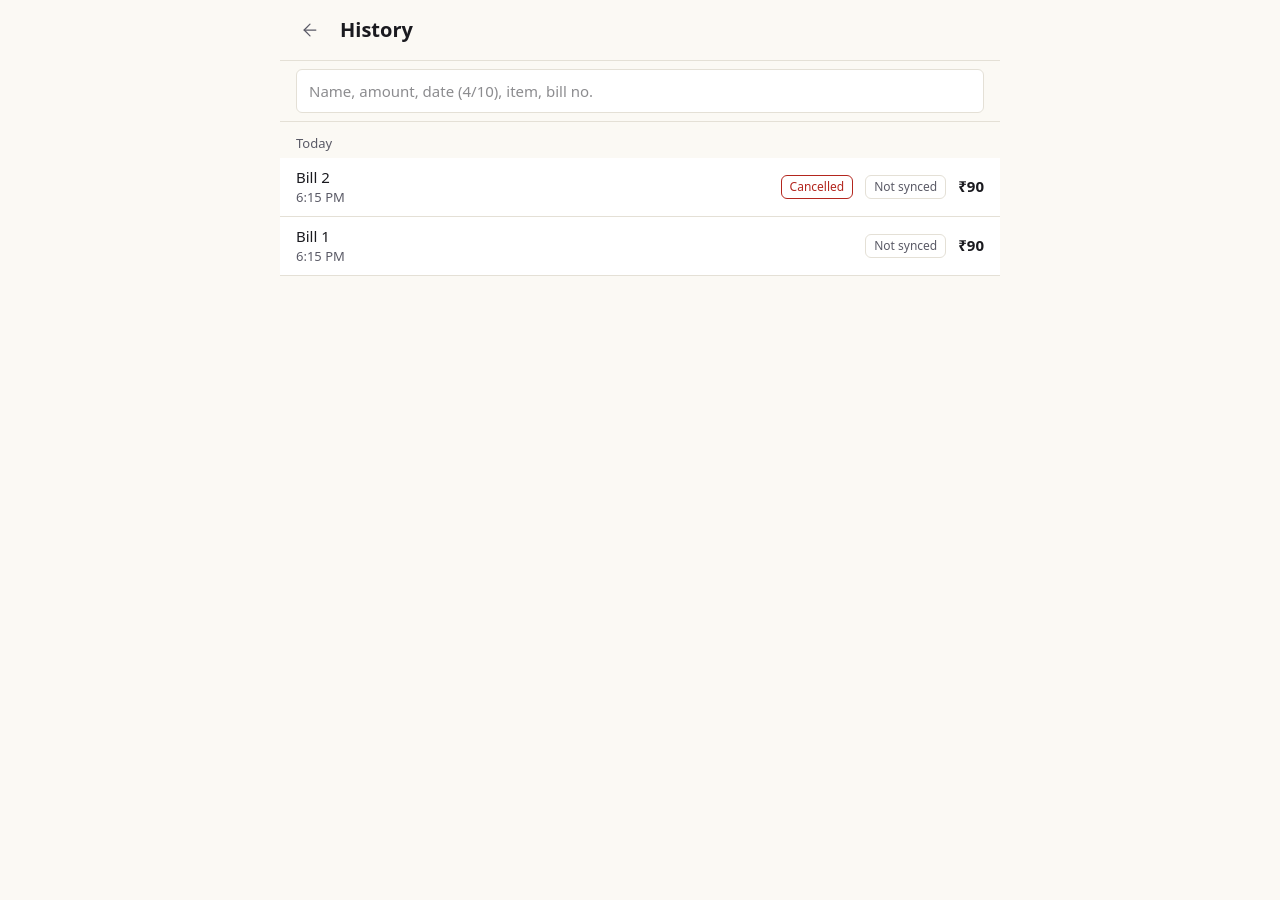
Test case: the bill detail - Cancel bill › a saved bill has a 'Cancel bill' button; a cancelled one does not
Expected: the list named "Bills" is shown, [280,122,1000,276]
What coordinates should you click on to do the following:
click the button "Bill 1 6:15 PM Not synced ₹90"
I would click on:
 (320, 256)
Its box is [280,216,1000,276].
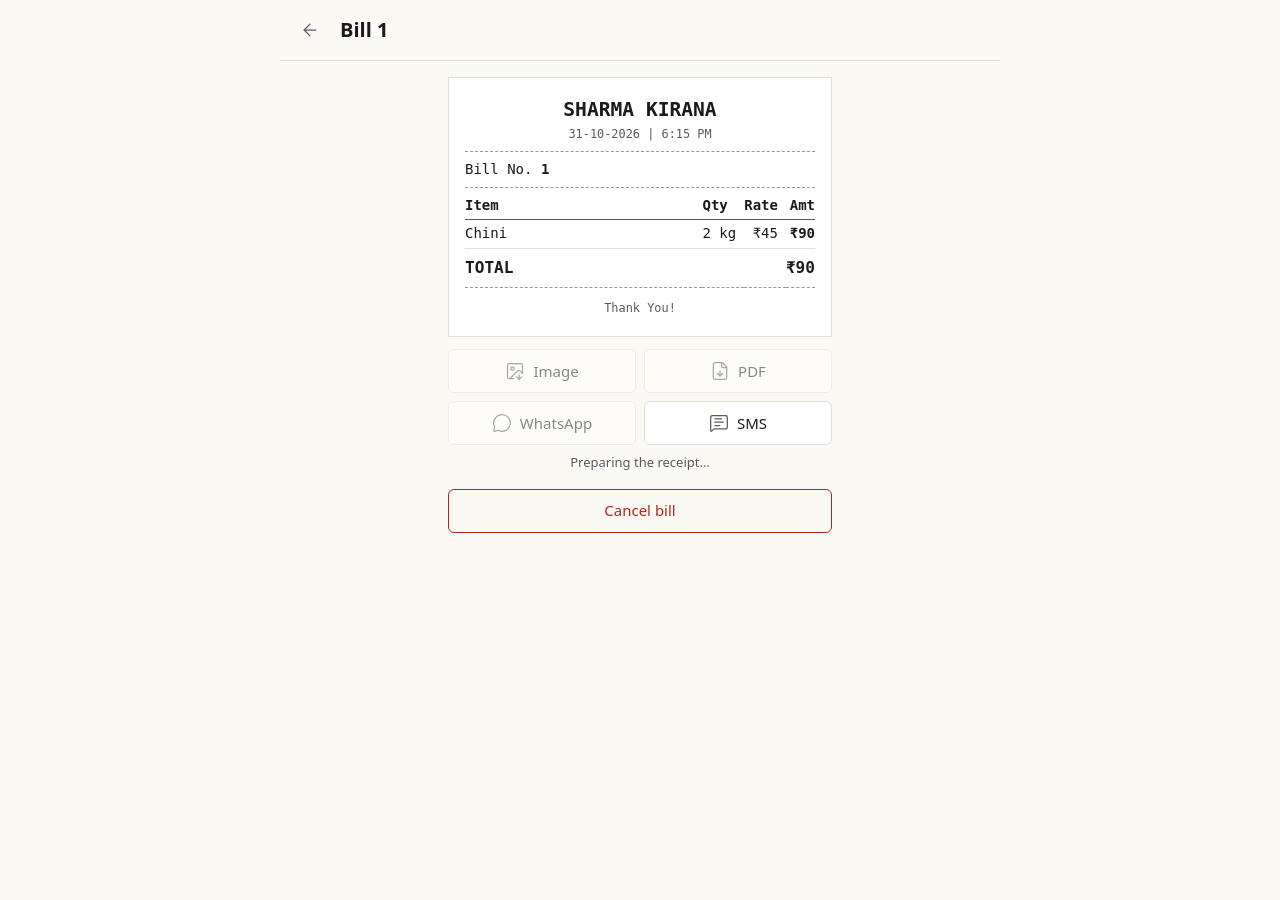
Expected: the button "Cancel bill" is shown, [448,489,832,533]
What coordinates should you click on to do the following:
click the button named "Back"
I would click on:
 (310, 30)
Its box is [288,8,332,52].
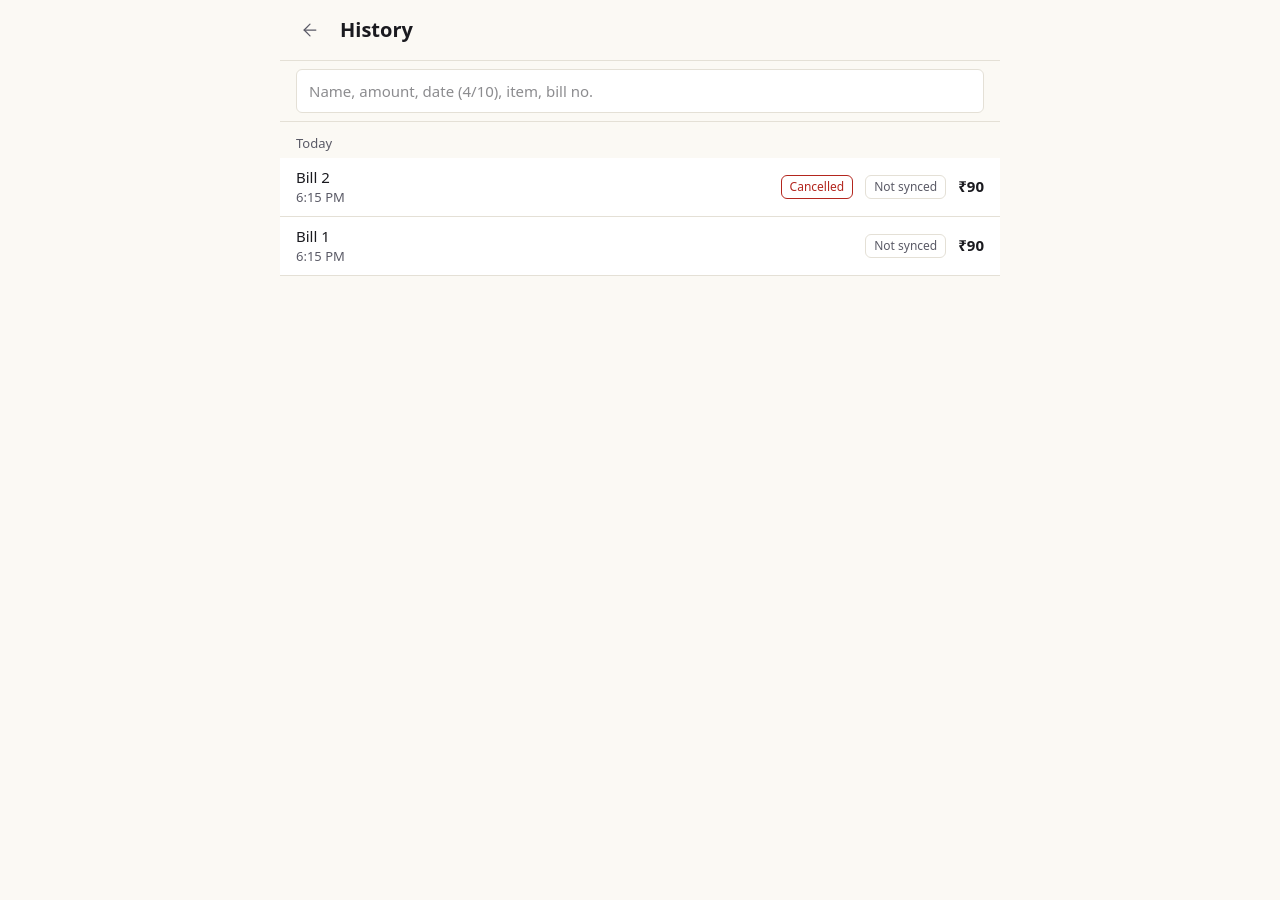
What coordinates should you click on to do the following:
click the button "Bill 2 6:15 PM Cancelled Not synced ₹90"
I would click on:
 (320, 197)
Its box is [280,158,1000,216].
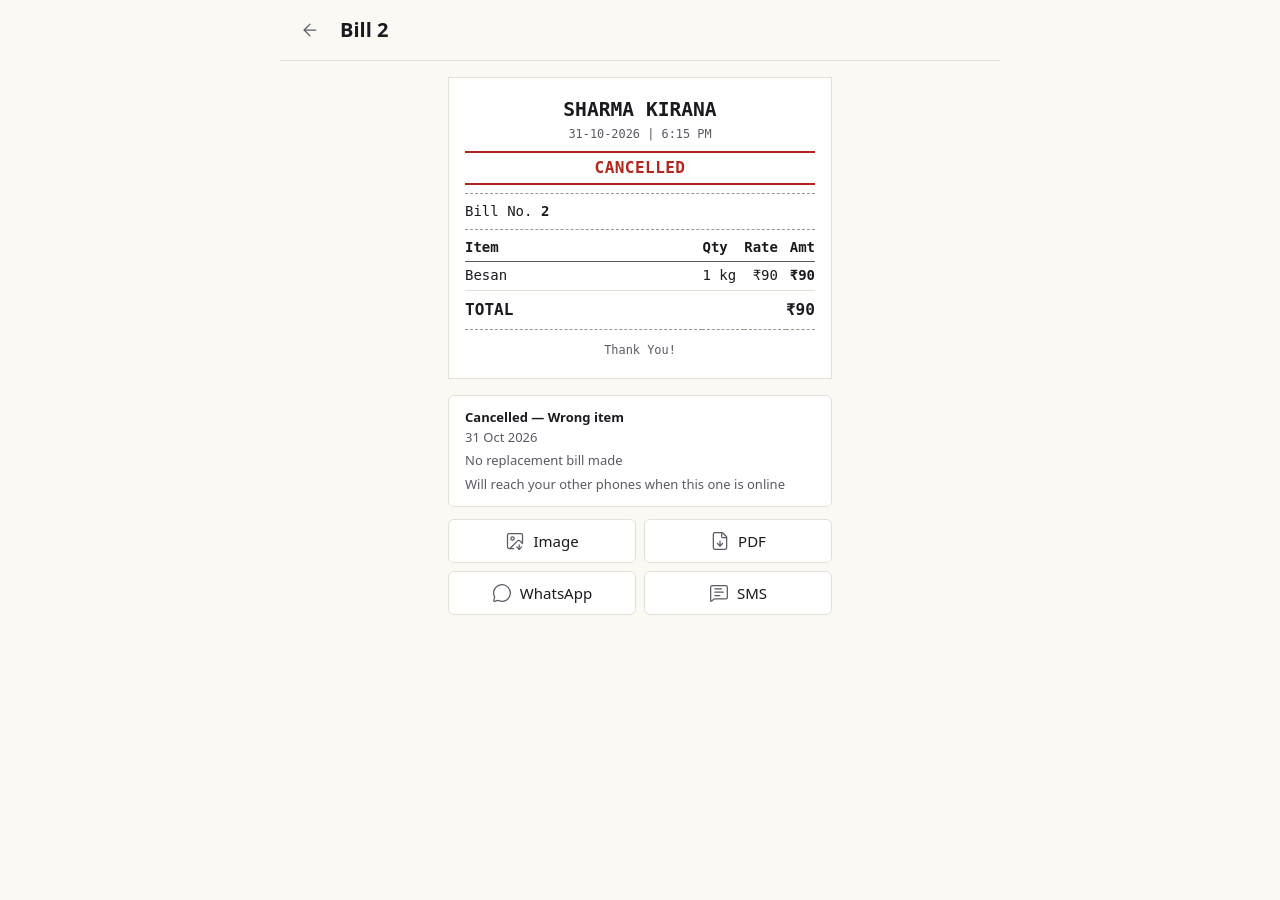
Expected: the button "Cancel bill" is not shown
Expected: the element named "Cancellation" is shown, [448,395,832,507]
